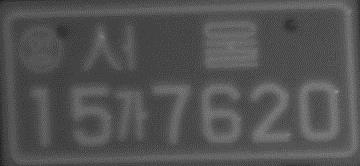0: (297, 78, 341, 145)
1: (26, 83, 56, 151)
2: (246, 82, 296, 143)
5: (66, 83, 113, 148)
6: (197, 83, 243, 145)
7: (150, 80, 195, 149)
가: (109, 87, 150, 145)
서울_D: (78, 18, 263, 76)
영: (16, 26, 66, 78)
